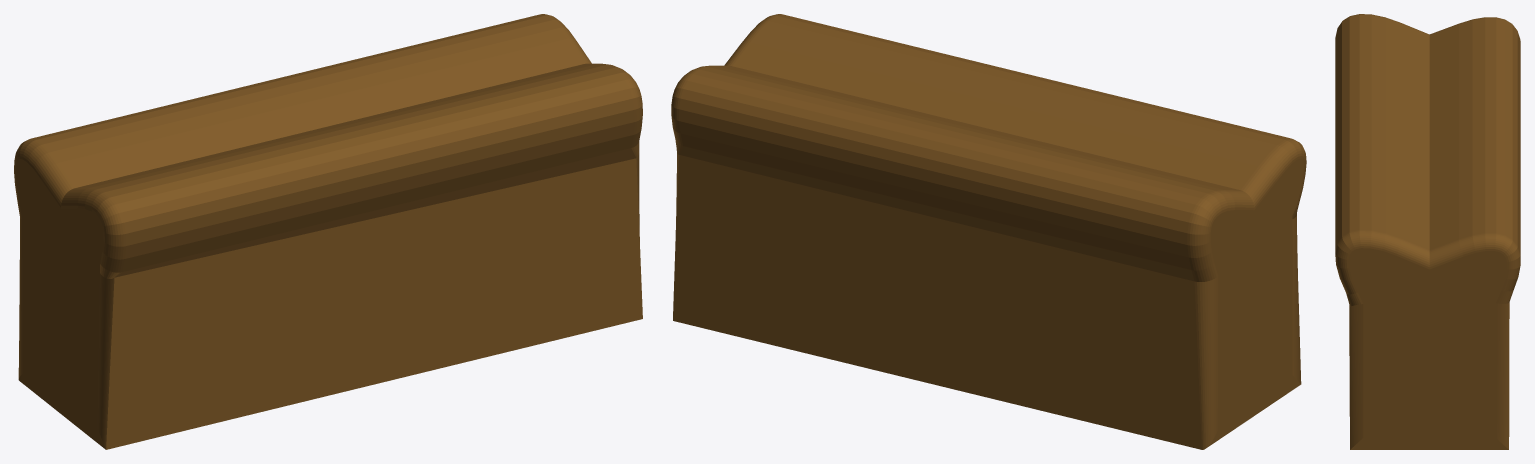
File: brood.fbx
3 views of the same model, side by side, from view 1: azimuth 30°, elevation 25°; view 2: azimuth 150°, elevation 25°; view 3: azimuth 270°, elevation 25° (orthographic). The views are drawn at different scales.
Parts seen in each view (by area): view 1: Cube; view 2: Cube; view 3: Cube.
Boxes of the visible parts, x1,y1,x2,y2 form: Cube: [14, 14, 642, 449]; Cube: [671, 14, 1306, 449]; Cube: [1335, 14, 1520, 449].
Size of the model in its own units: 680 by 295 by 233.
